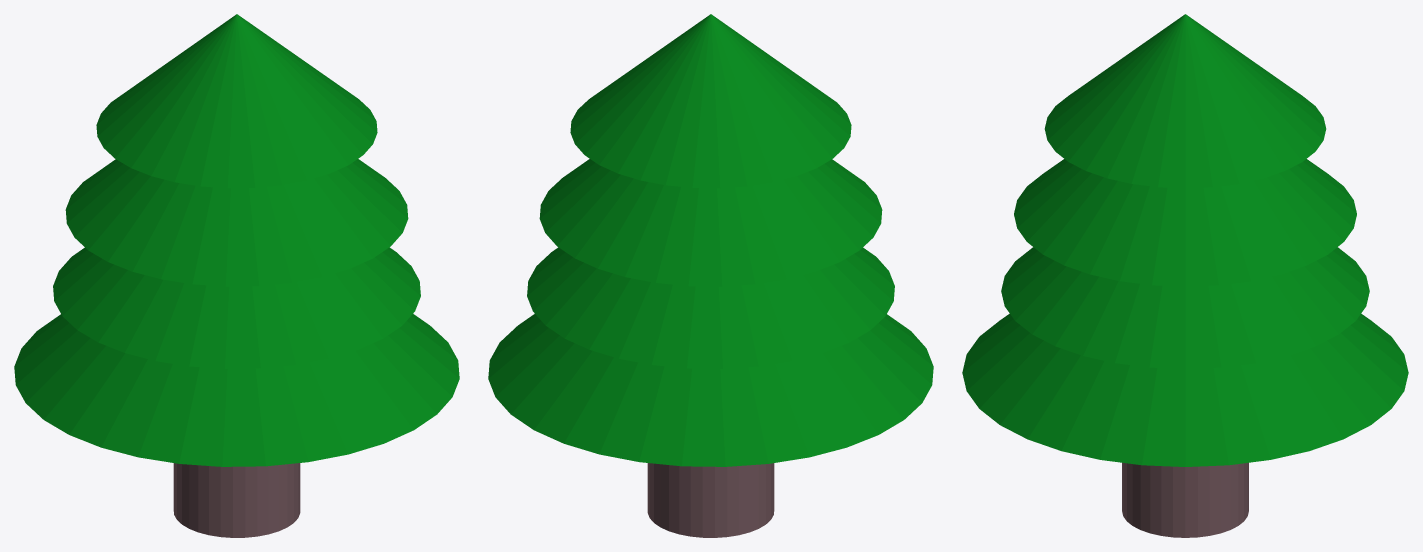
File: Pine.fbx
3 views of the same model, side by side, from view 1: azimuth 30°, elevation 25°; view 2: azimuth 150°, elevation 25°; view 3: azimuth 270°, elevation 25° (orthographic).
Visible parts, largest first — view 1: Cylinder; view 2: Cylinder; view 3: Cylinder.
Part boxes in pixels (x1,y1,x2,y2): Cylinder: [14, 14, 459, 537]; Cylinder: [488, 14, 933, 537]; Cylinder: [962, 14, 1408, 537].
Bounding box in the file's own units: 703 × 864 × 703.
